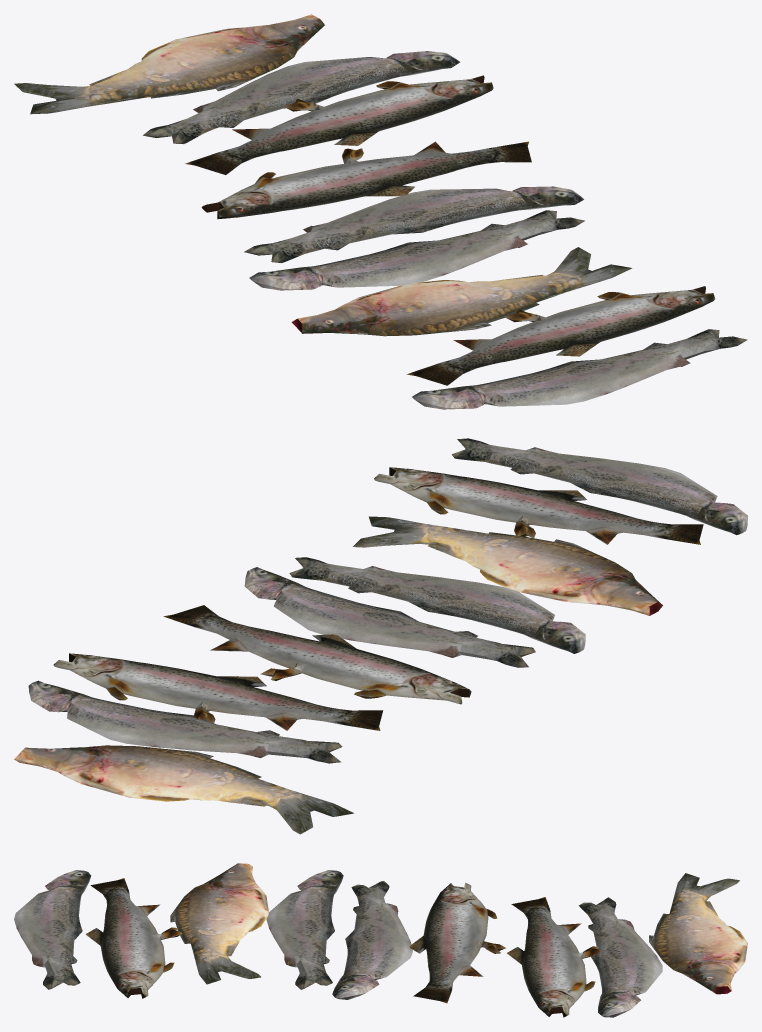
The model's file is fish_booth02_LOD01.fbx.
3 renders of one model, top to bottom at view 1: azimuth 30°, elevation 25°; view 2: azimuth 150°, elevation 25°; view 3: azimuth 270°, elevation 25°, orthographic. The views are drawn at different scales.
Visible parts, largest first — view 1: Mesh Object; view 2: Mesh Object; view 3: Mesh Object.
Boxes of the visible parts, x1,y1,x2,y2 form: Mesh Object: (14,14,747,409); Mesh Object: (14,438,747,834); Mesh Object: (14,863,747,1017).
Size of the model in its own units: 0.8209 by 0.021 by 1.7.
